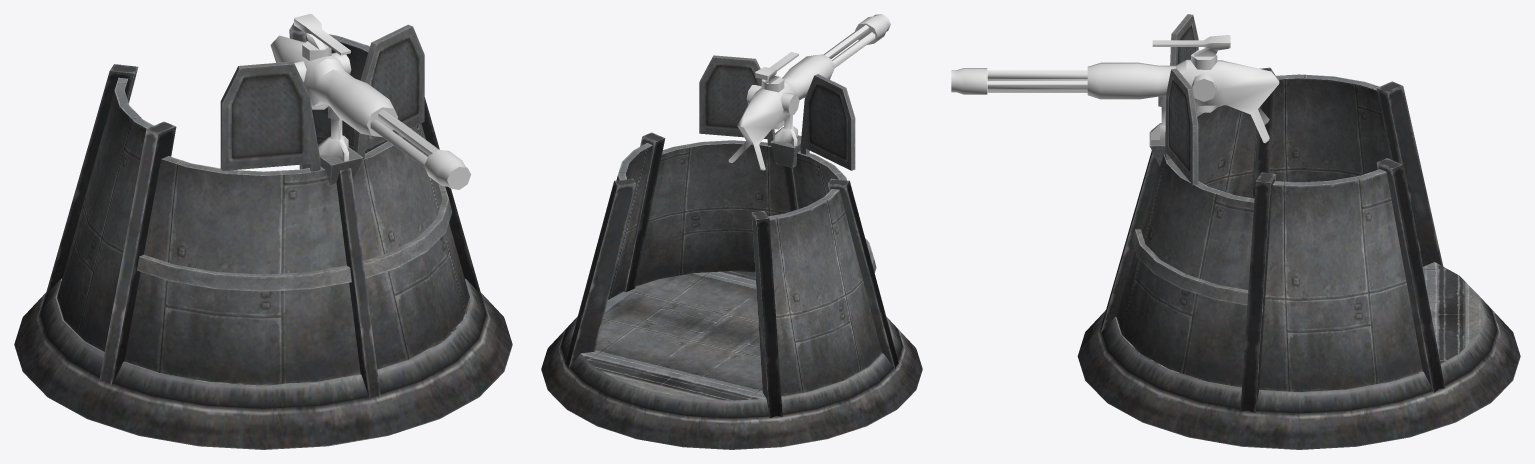
File: gunturret.dae
3 views of the same model, side by side, from view 1: azimuth 30°, elevation 25°; view 2: azimuth 150°, elevation 25°; view 3: azimuth 270°, elevation 25° (orthographic). The views are drawn at different scales.
Parts seen in each view (by area): view 1: 7.5.203.0; view 2: 7.5.203.0; view 3: 7.5.203.0.
Boxes of the visible parts, x1,y1,x2,y2 form: 7.5.203.0: (14, 14, 512, 449); 7.5.203.0: (541, 14, 922, 449); 7.5.203.0: (951, 14, 1520, 449).
Size of the model in its own units: 2.41 by 3.1 by 1.91.
